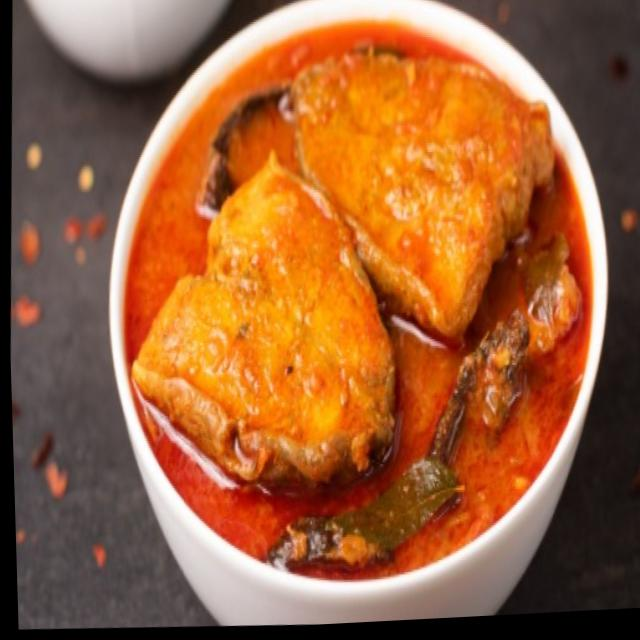FISH CURRY: (125, 38, 589, 576)
VADA: (128, 135, 395, 482)
